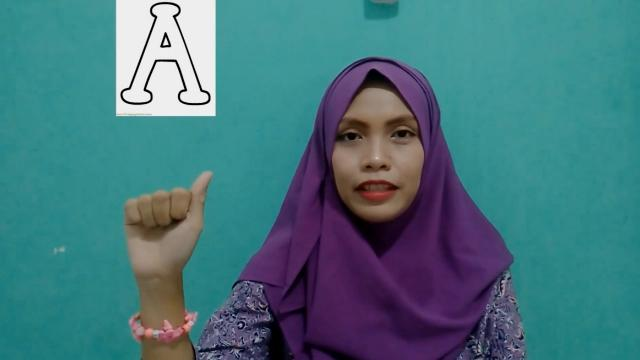A: (124, 169, 212, 293)
